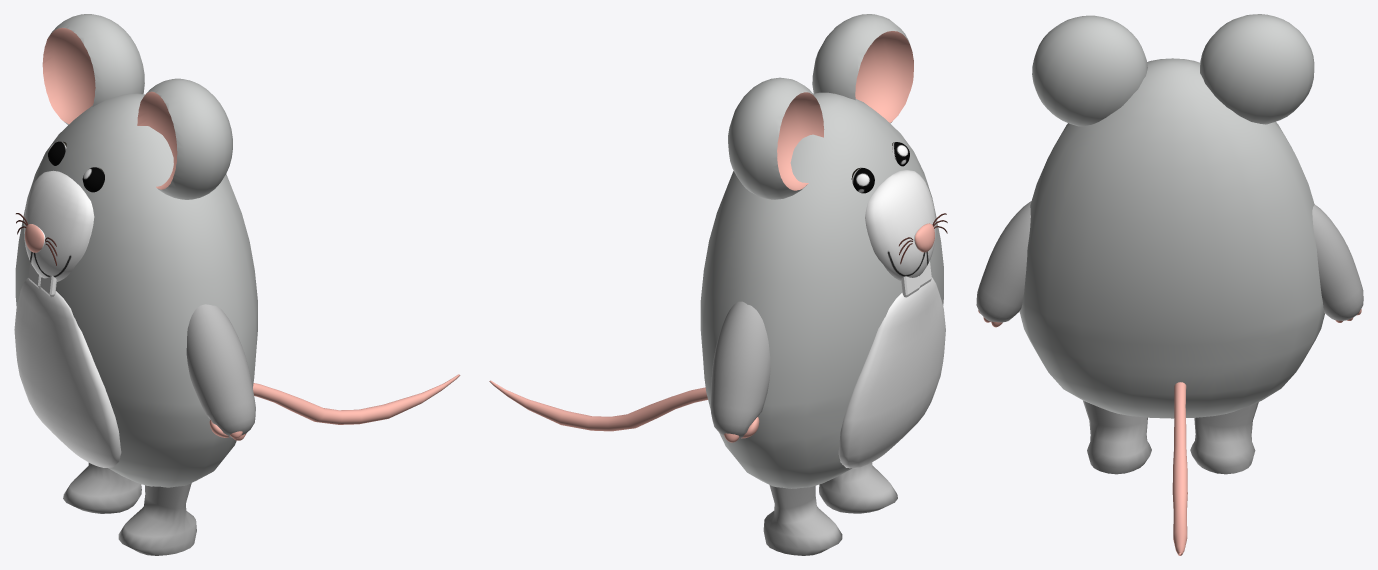
The model's file is uploads_files_3861195_Mouse_GLB.glb.
The picture shows the model from 3 angles, left to right: view 1: azimuth 30°, elevation 25°; view 2: azimuth 150°, elevation 25°; view 3: azimuth 270°, elevation 25°; orthographic projection. The views are drawn at different scales.
Visible parts, largest first — view 1: Mouse; view 2: Mouse; view 3: Mouse.
Part boxes in pixels (x1,y1,x2,y2): Mouse: (14, 14, 460, 555); Mouse: (489, 14, 947, 555); Mouse: (976, 14, 1363, 555).
Size of the model in its own units: 0.0823 by 0.0846 by 0.0666.
Materials: 3 (3 with a texture image).
